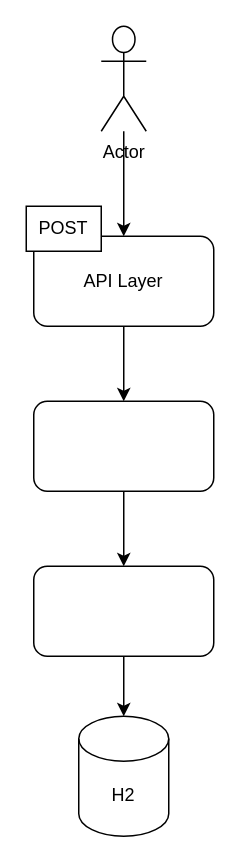
This 240x863 diagram has some shape labels left out. Each missing label, with the centre of its shape:
"DAO" goes at pixel 123 610.
"Service Layer" goes at pixel 123 445.
